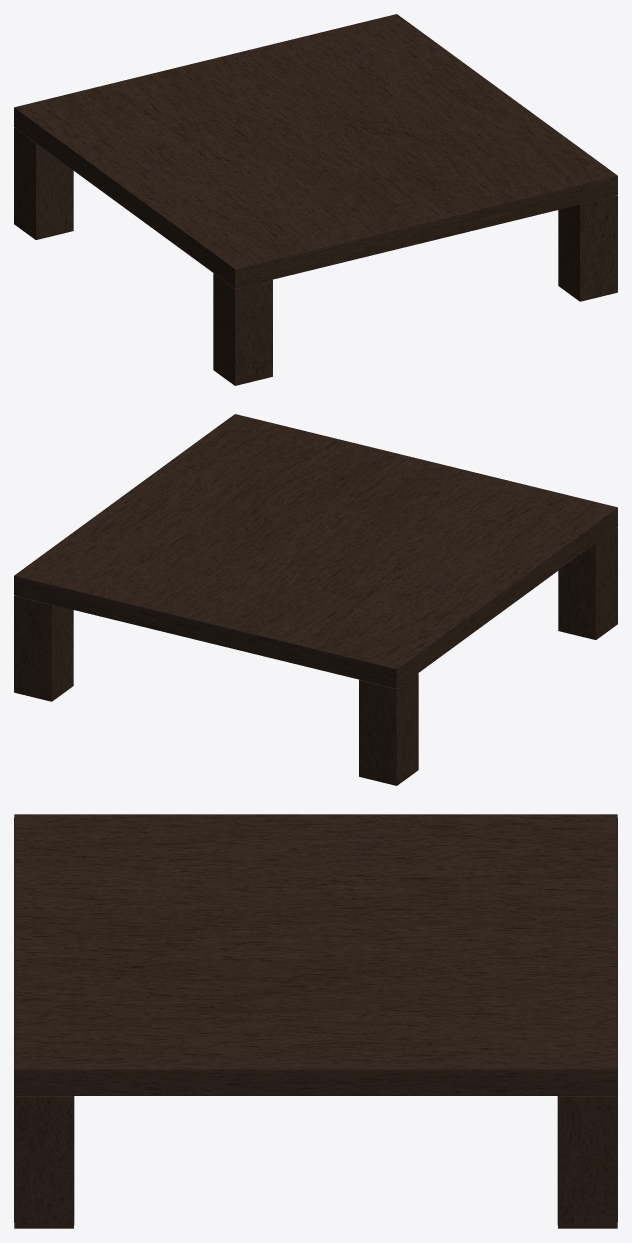
The model's file is Table.glb.
3 renders of one model, top to bottom at view 1: azimuth 30°, elevation 25°; view 2: azimuth 150°, elevation 25°; view 3: azimuth 270°, elevation 25°, orthographic. The views are drawn at different scales.
Parts seen in each view (by area): view 1: Wooden coffee table; view 2: Wooden coffee table; view 3: Wooden coffee table.
Part boxes in pixels (x1,y1,x2,y2): Wooden coffee table: (14, 14, 617, 385); Wooden coffee table: (14, 414, 617, 785); Wooden coffee table: (14, 814, 617, 1228).
Size of the model in its own units: 2 by 0.5823 by 2.
Materials: 1 (1 with a texture image).
